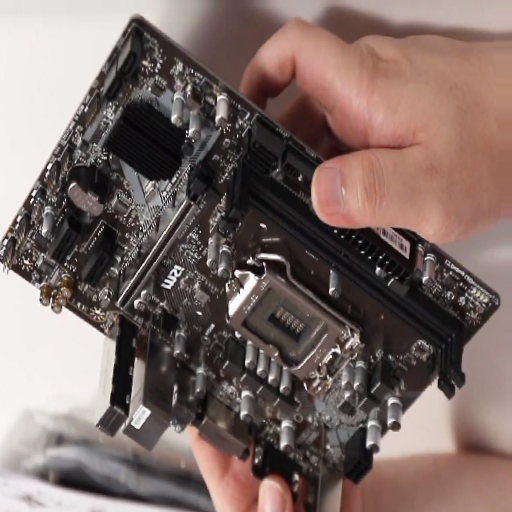CPU: (225, 264, 358, 398)
GPU: (113, 177, 220, 309)
MOTHERBOARD: (1, 15, 500, 485)
RAM: (223, 157, 467, 397)
